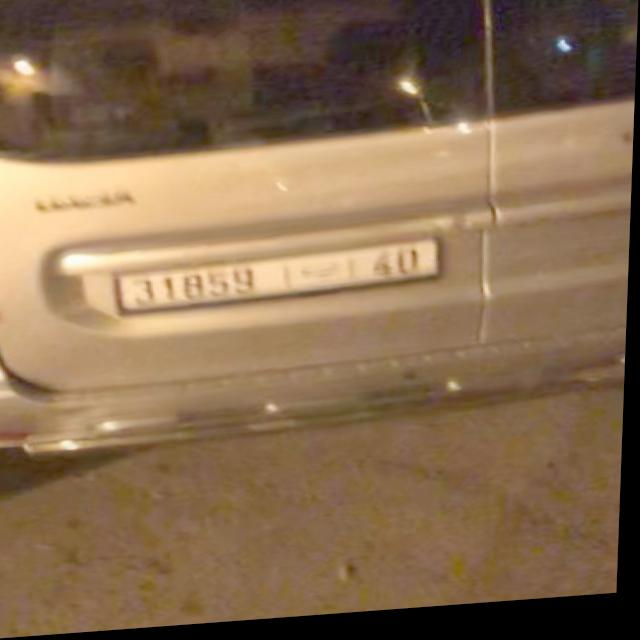License-Plate: (118, 246, 440, 314)
